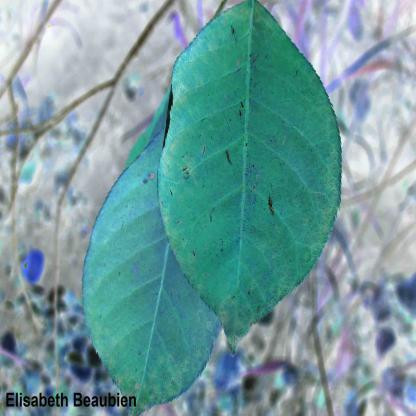Cherry leaf: (164, 4, 344, 334), (89, 114, 216, 416)
